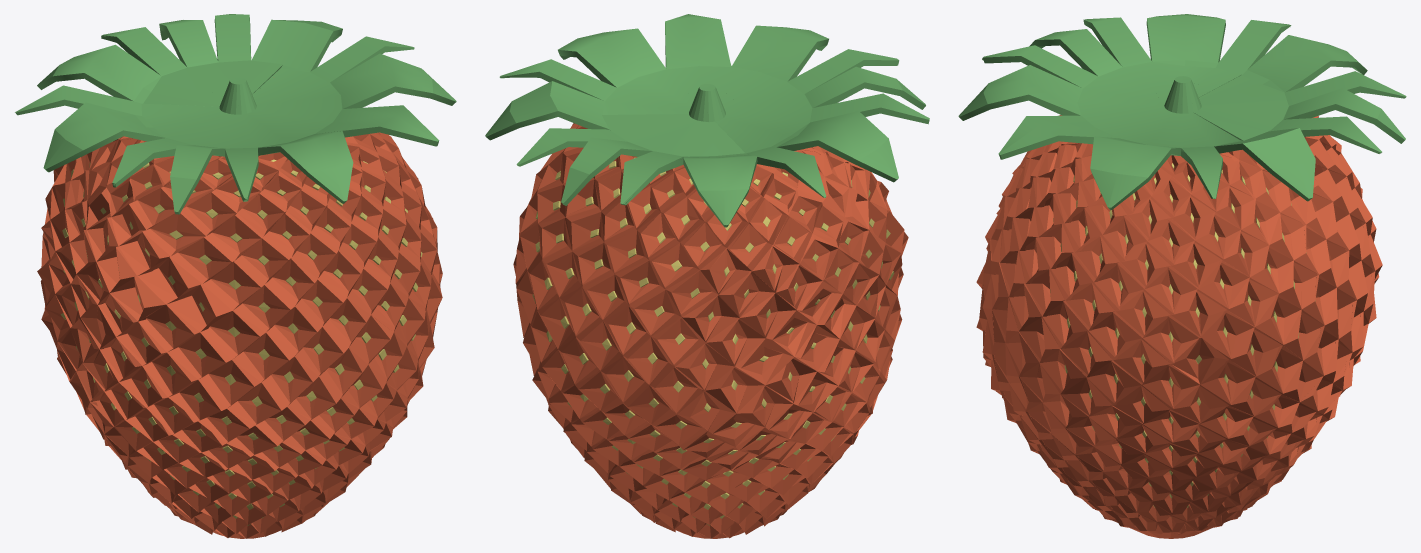
The model's file is strawberry.fbx.
3 views of the same model, side by side, from view 1: azimuth 30°, elevation 25°; view 2: azimuth 150°, elevation 25°; view 3: azimuth 270°, elevation 25° (orthographic).
Parts seen in each view (by area): view 1: body, leaves; view 2: body, leaves; view 3: body, leaves.
Part boxes in pixels (left/top/right/bottom): body: left=37, top=132, right=442, bottom=538; leaves: left=15, top=14, right=456, bottom=214; body: left=513, top=123, right=908, bottom=538; leaves: left=485, top=14, right=929, bottom=227; body: left=976, top=115, right=1382, bottom=538; leaves: left=958, top=14, right=1406, bottom=210.
Size of the model in its own units: 0.0525 by 0.0583 by 0.0525.
